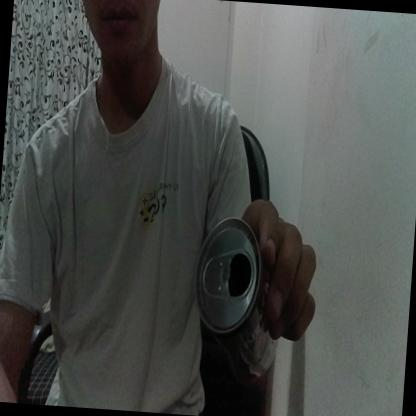alumunium_can: (188, 213, 290, 396)
